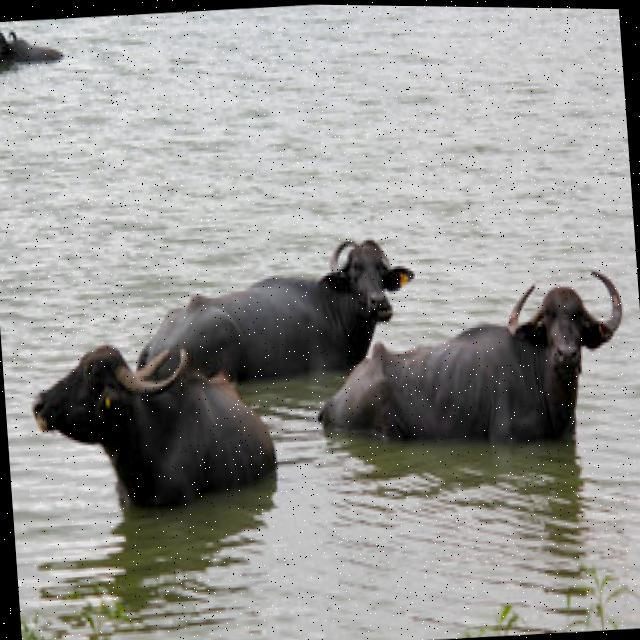Buffalo: (314, 262, 634, 472), (23, 331, 278, 512)
